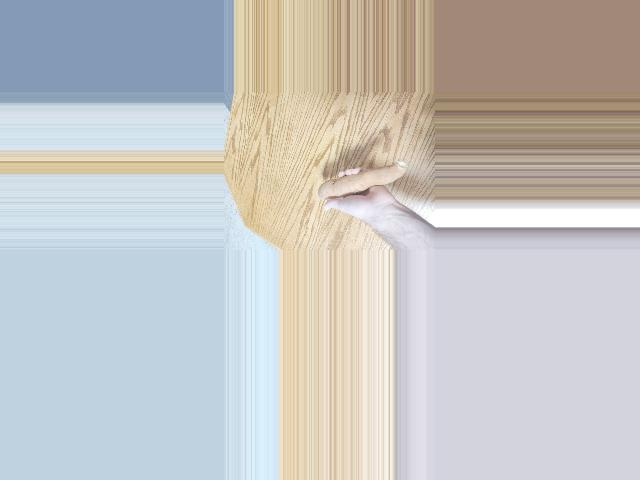sweet_potato: (316, 175, 406, 198)
